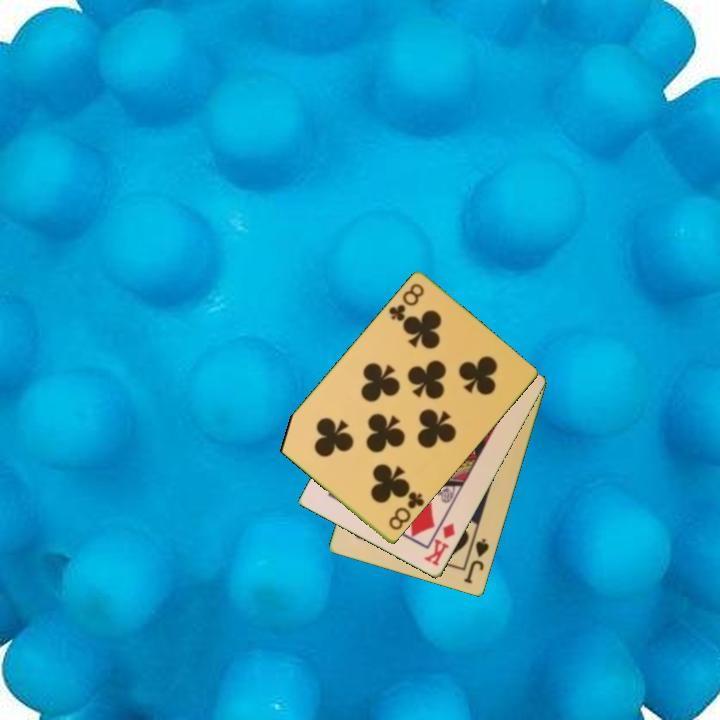8c: (385, 485, 427, 534), (385, 280, 427, 325)
Js: (460, 535, 492, 587)
Kd: (421, 519, 458, 569)
